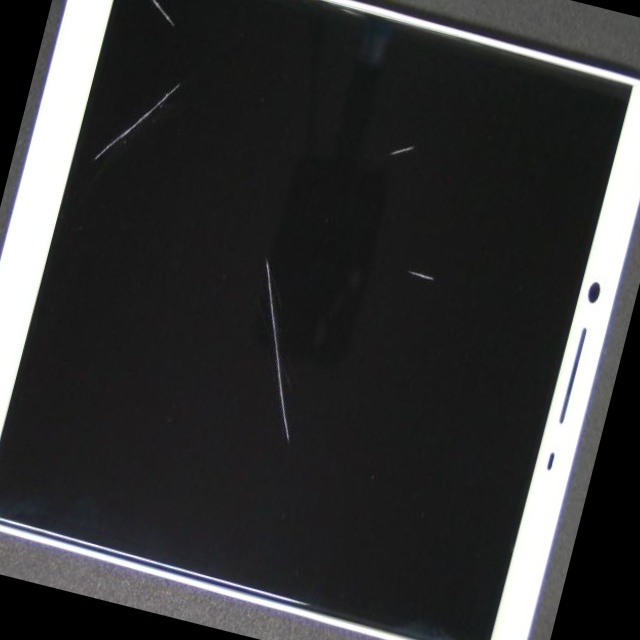scratch: (243, 12, 631, 254)
